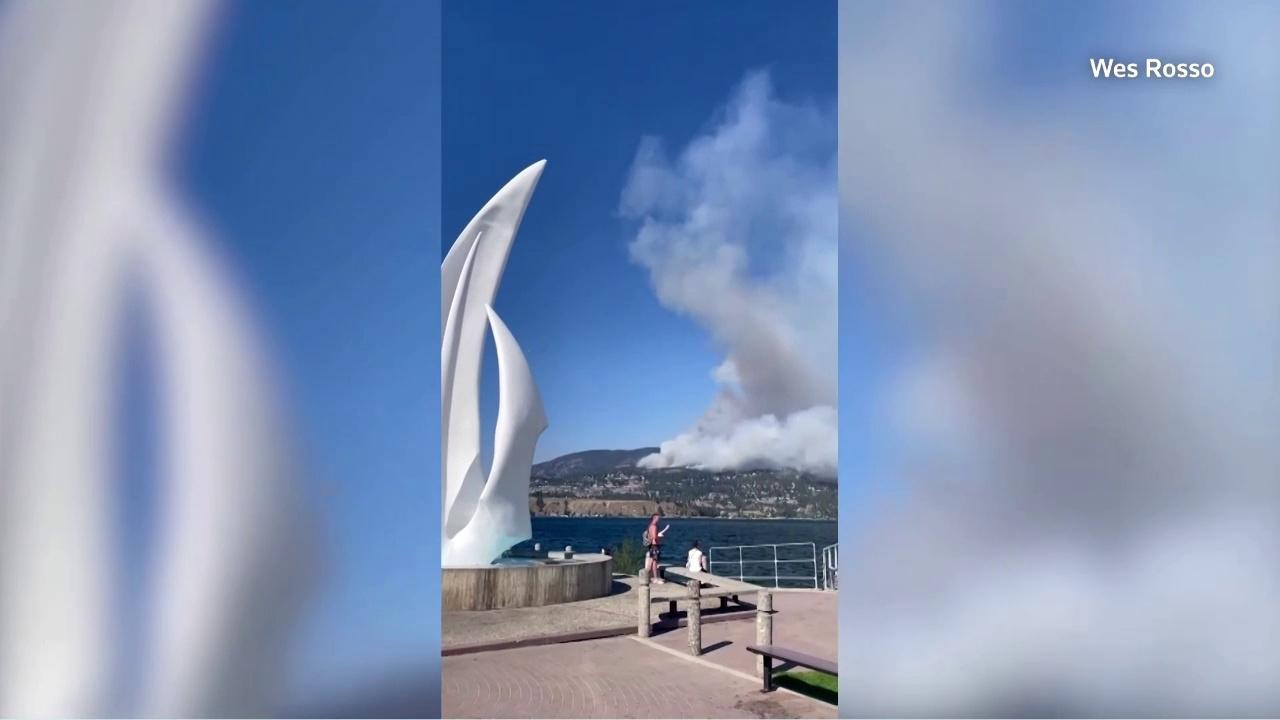smoke: (607, 59, 837, 491)
